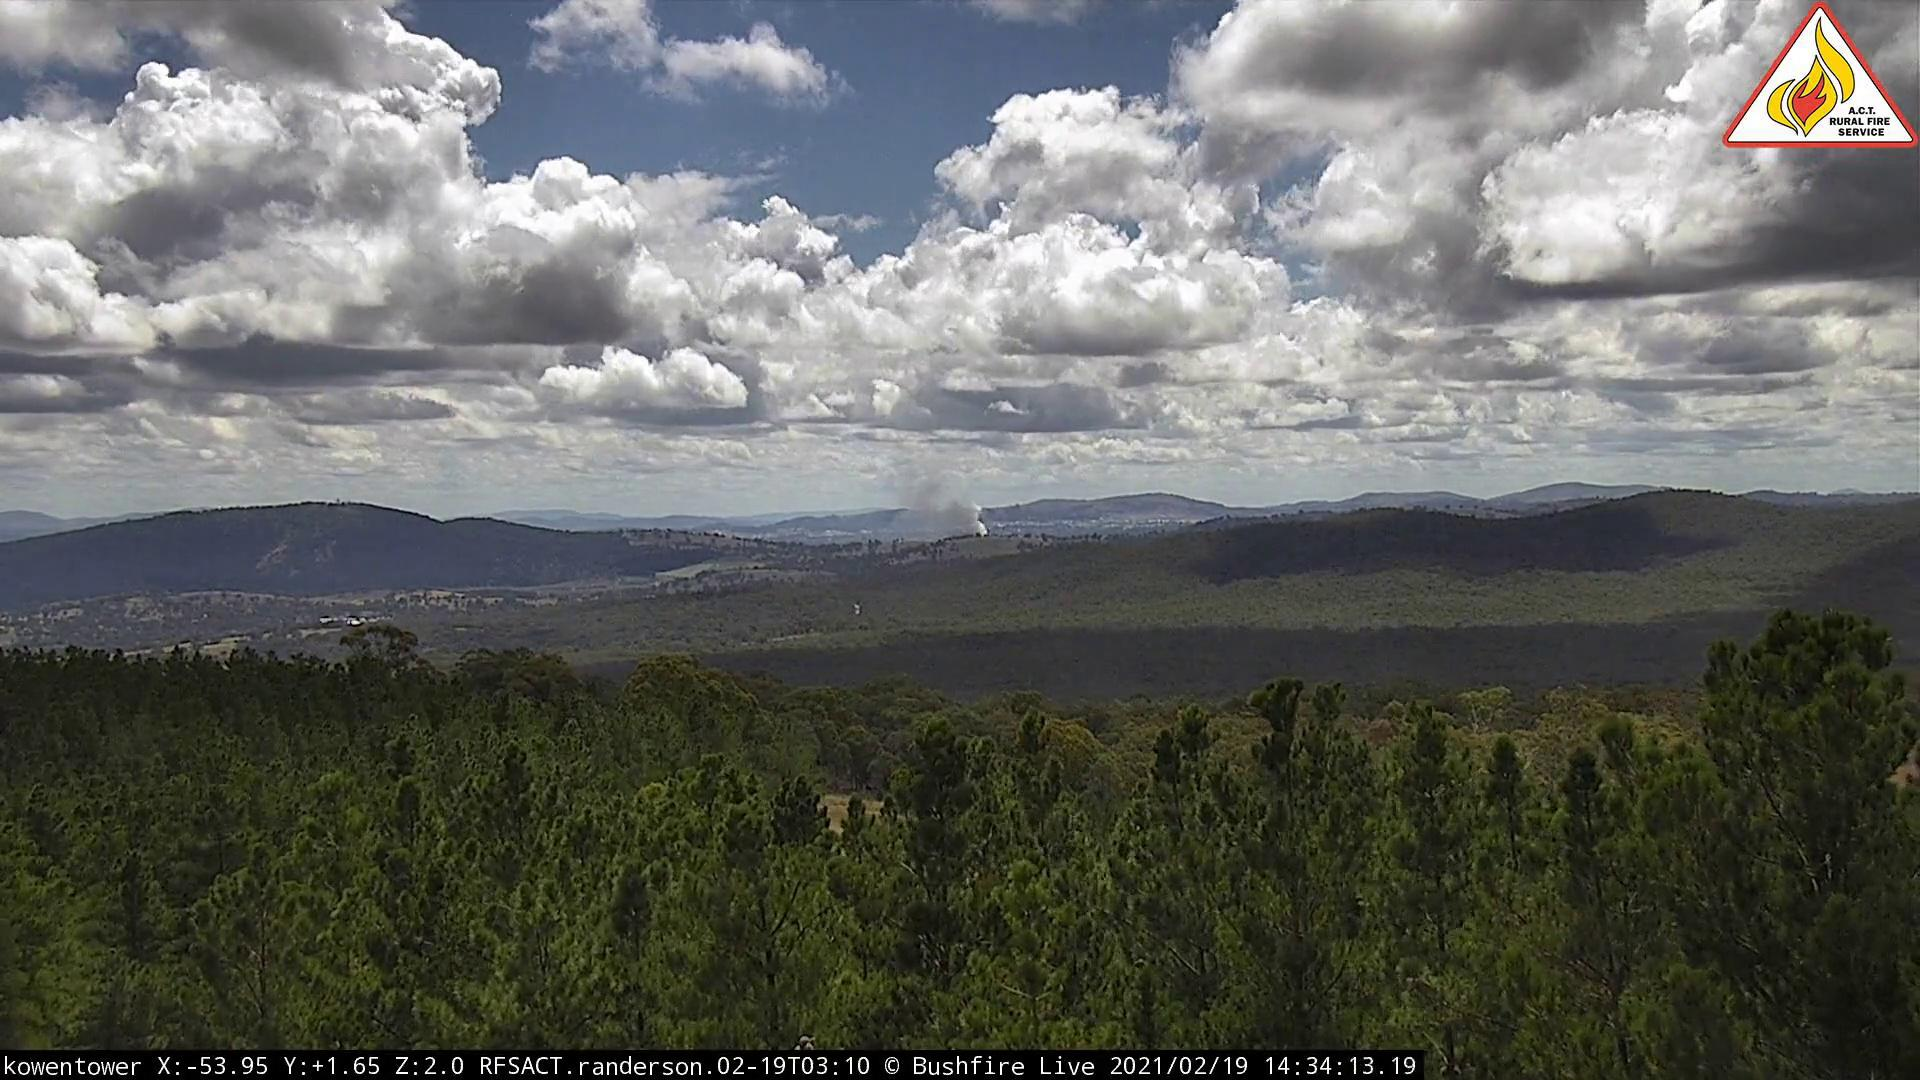instance_salient_object: (880, 479, 993, 554)
